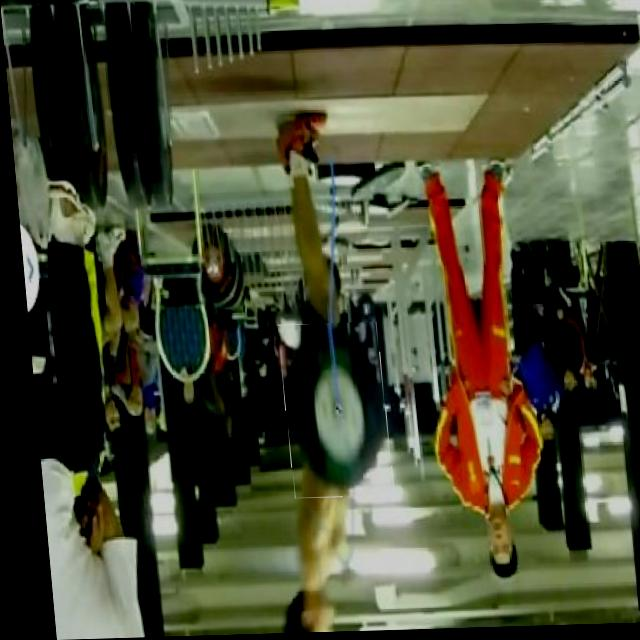barbell: (273, 325, 385, 500)
